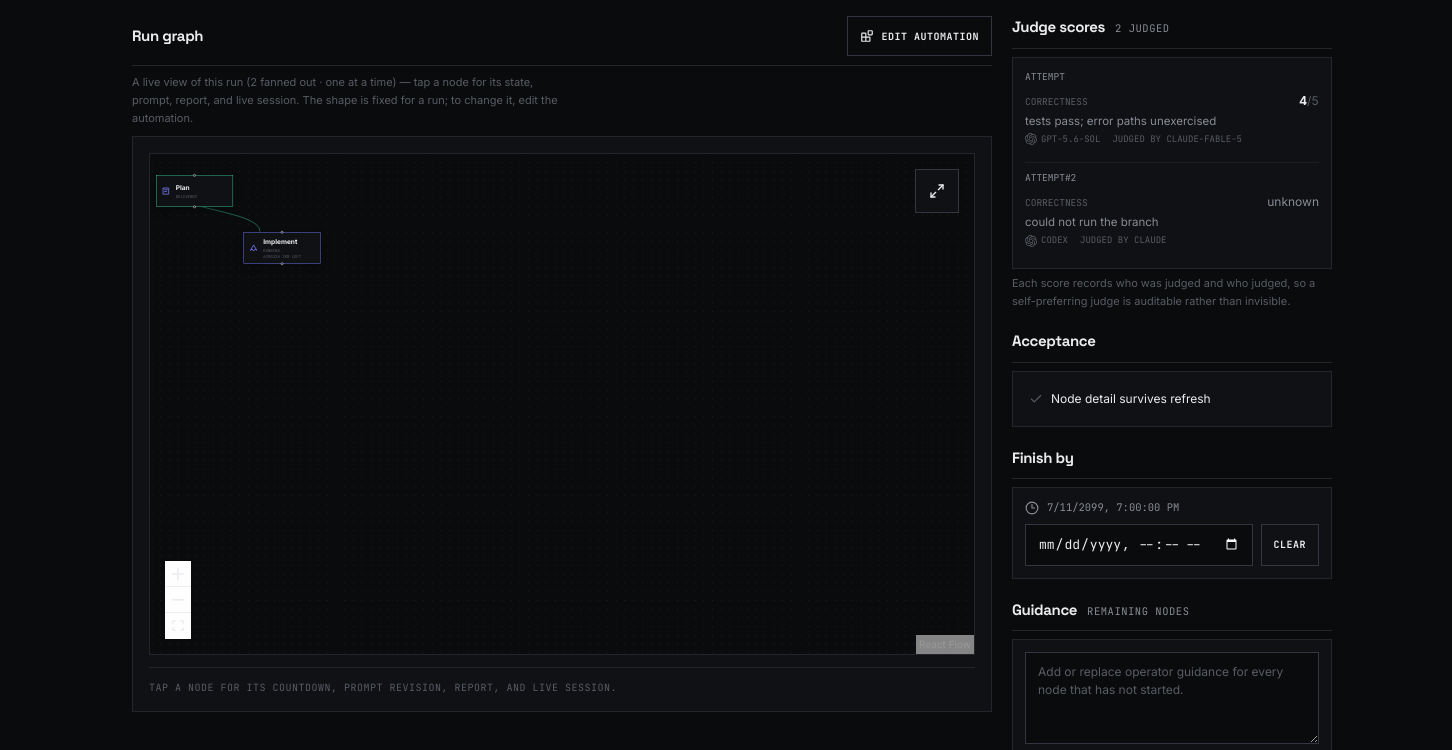
it: live flow graph › stores a tapped graph node in the URL and reveals nearby detail
The width and height of the screenshot is (1452, 750).
Click the button with aria-label "Implement, running. Open node details": x=282, y=248 x1=244 y1=232 x2=321 y2=264
(page scrolled)
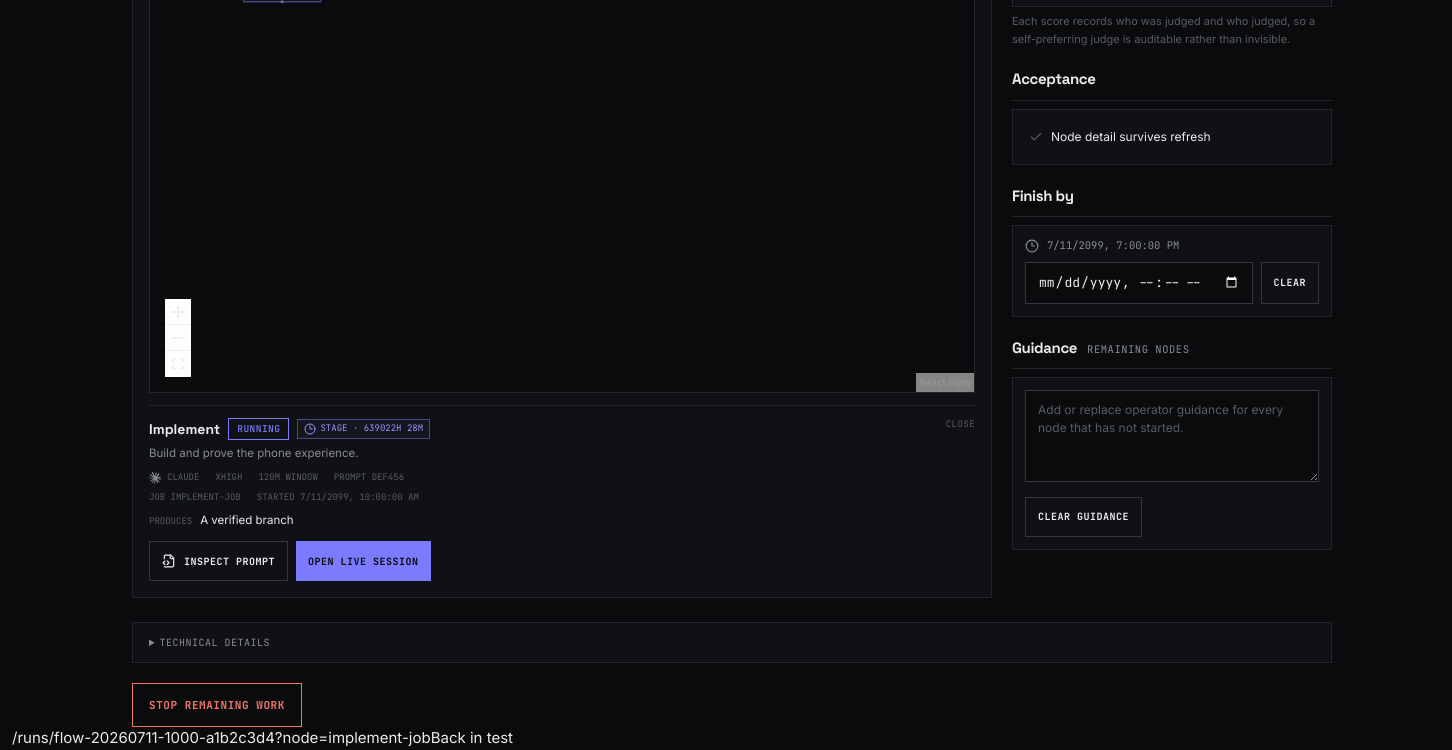
Check: the text with test id "location" shows "?node=implement-job", box x1=12 y1=728 x2=431 y2=747
Check: the element with test id "graph-node-detail" shows "Build and prove the phone experience.", box x1=149 y1=446 x2=358 y2=460
